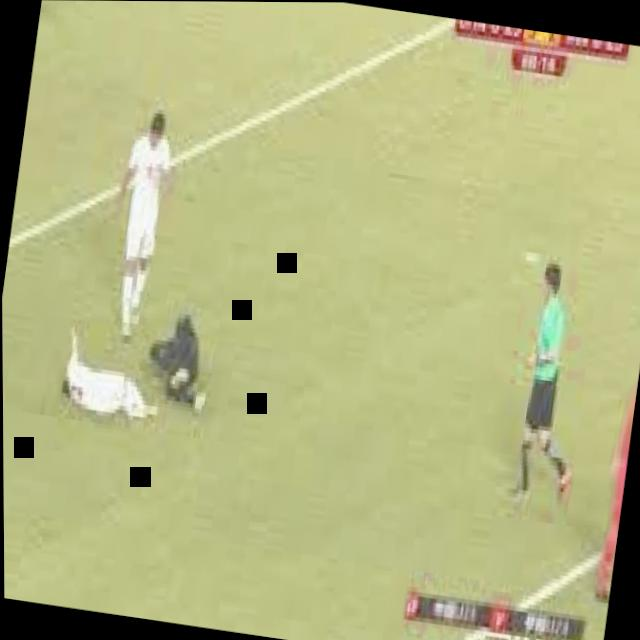Fall-Detected: (131, 279, 222, 414)
